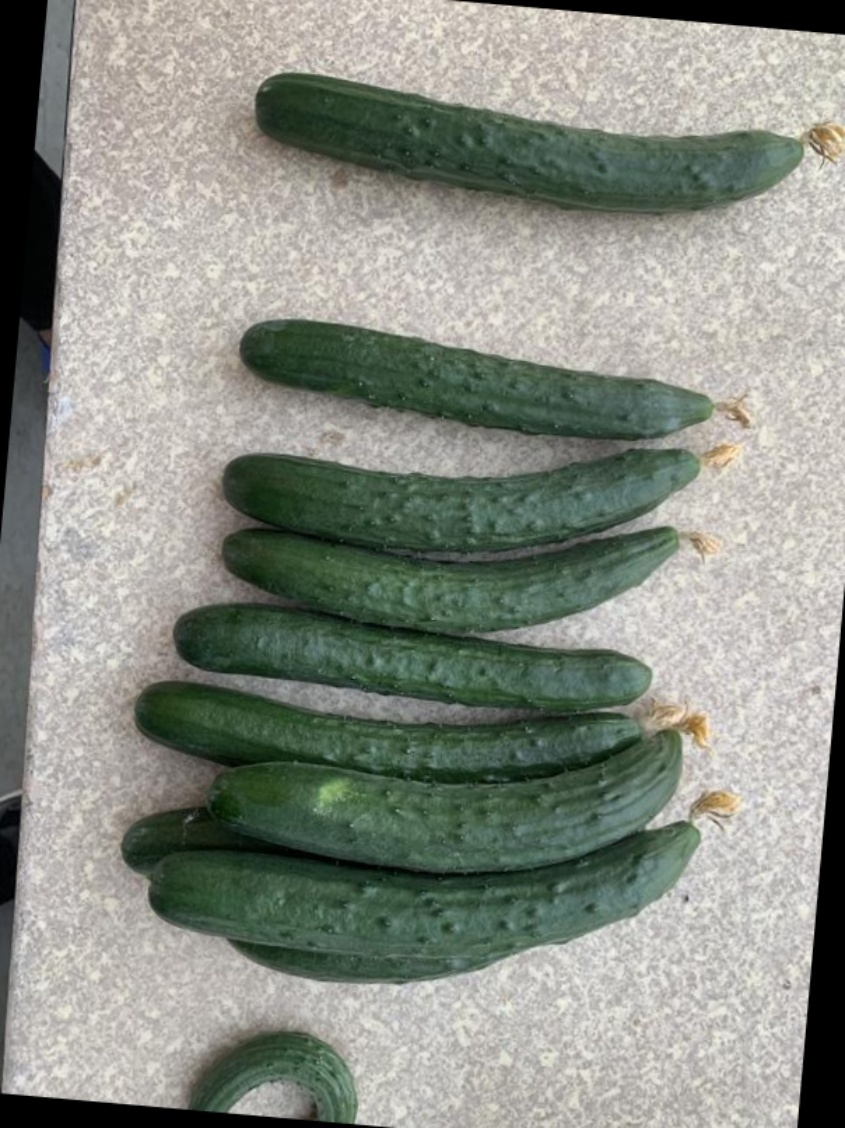mature: (146, 820, 714, 951)
